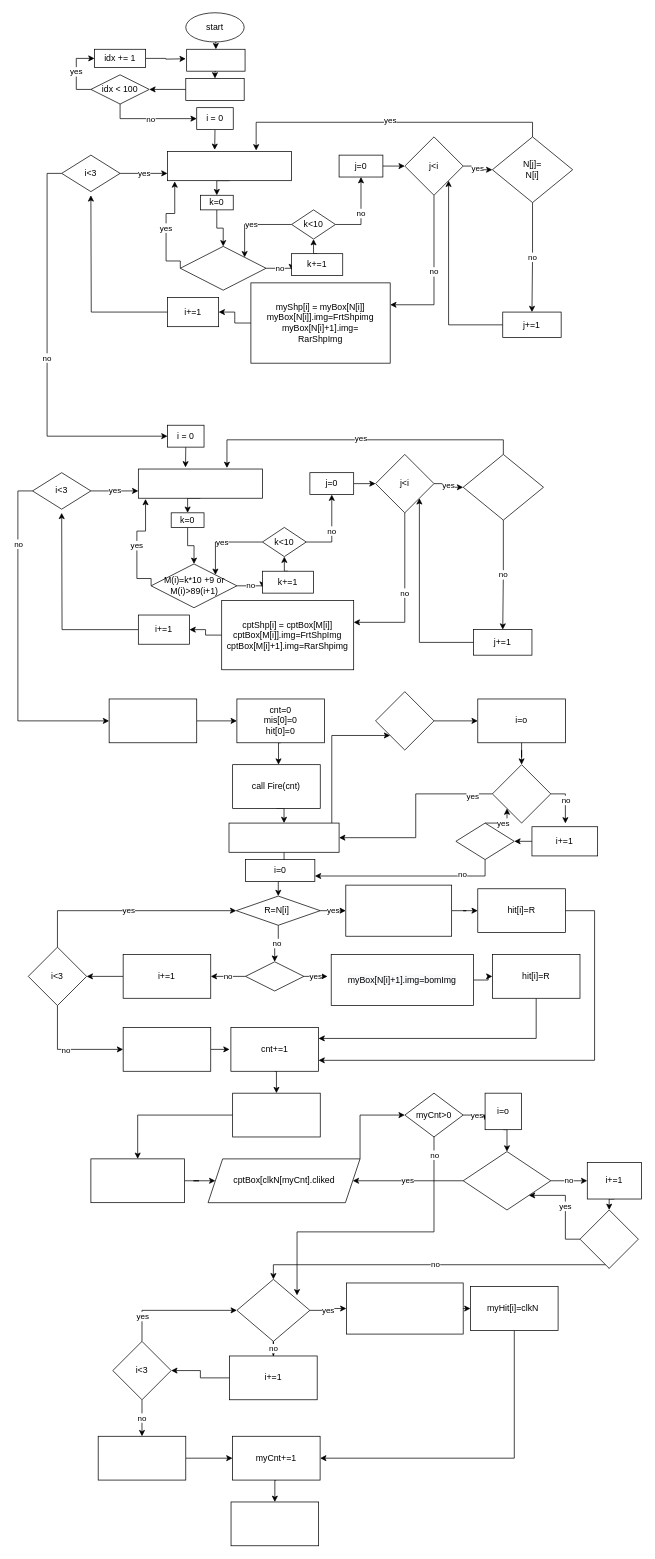
This 655x1559 diagram has some shape labels left out. Each missing label, with the centre of its shape:
"clkN=M[i] or clkN=M[i] +1" goes at (x=273, y=1310).
"clkN[i] = clkN[myCnt]" goes at (x=506, y=1180).
"cnt>0" goes at (x=404, y=720).
"cptBox[clkN].img=bomimg" goes at (x=404, y=1308).
"cptFir= true call Fire(cnt)" goes at (x=274, y=1523).
"cptFir=false myclk = true" goes at (x=276, y=1114).
"cptFir=ture" goes at (x=152, y=720).
"i<cnt+1" goes at (x=484, y=841).
"i<myCnt+1" goes at (x=608, y=1238).
"i=0 myCnt=0 myMis[0]=0 myHit[0]=0" goes at (x=137, y=1180).
"idx = 0" goes at (x=215, y=60).
"M[i]=random(0,100)" goes at (x=200, y=483).
"M[j]= M[i]" goes at (x=502, y=487).
"mis[cnt]=R" goes at (x=166, y=1049).
"myBox[idx] cptBox[idx]" goes at (x=214, y=89).
"myBox[N[i]].img=bomImg" goes at (x=398, y=910).
"myMis[myCnt]=clkN" goes at (x=141, y=1458).
"N(i)=k*10 +9 or N(i)>89(i+1)" goes at (x=223, y=268).
"N[i]=random(0,100)" goes at (x=229, y=166).
"R=N[i] + 1" goes at (x=274, y=976).
"R[cnt]=random(0,100)" goes at (x=283, y=837).
"R[i]=R[cnt]" goes at (x=521, y=793).
